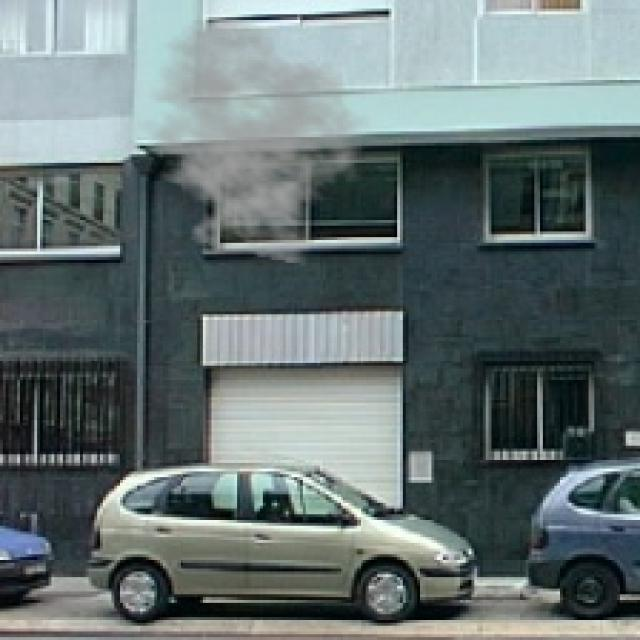smoke: (126, 14, 371, 266)
